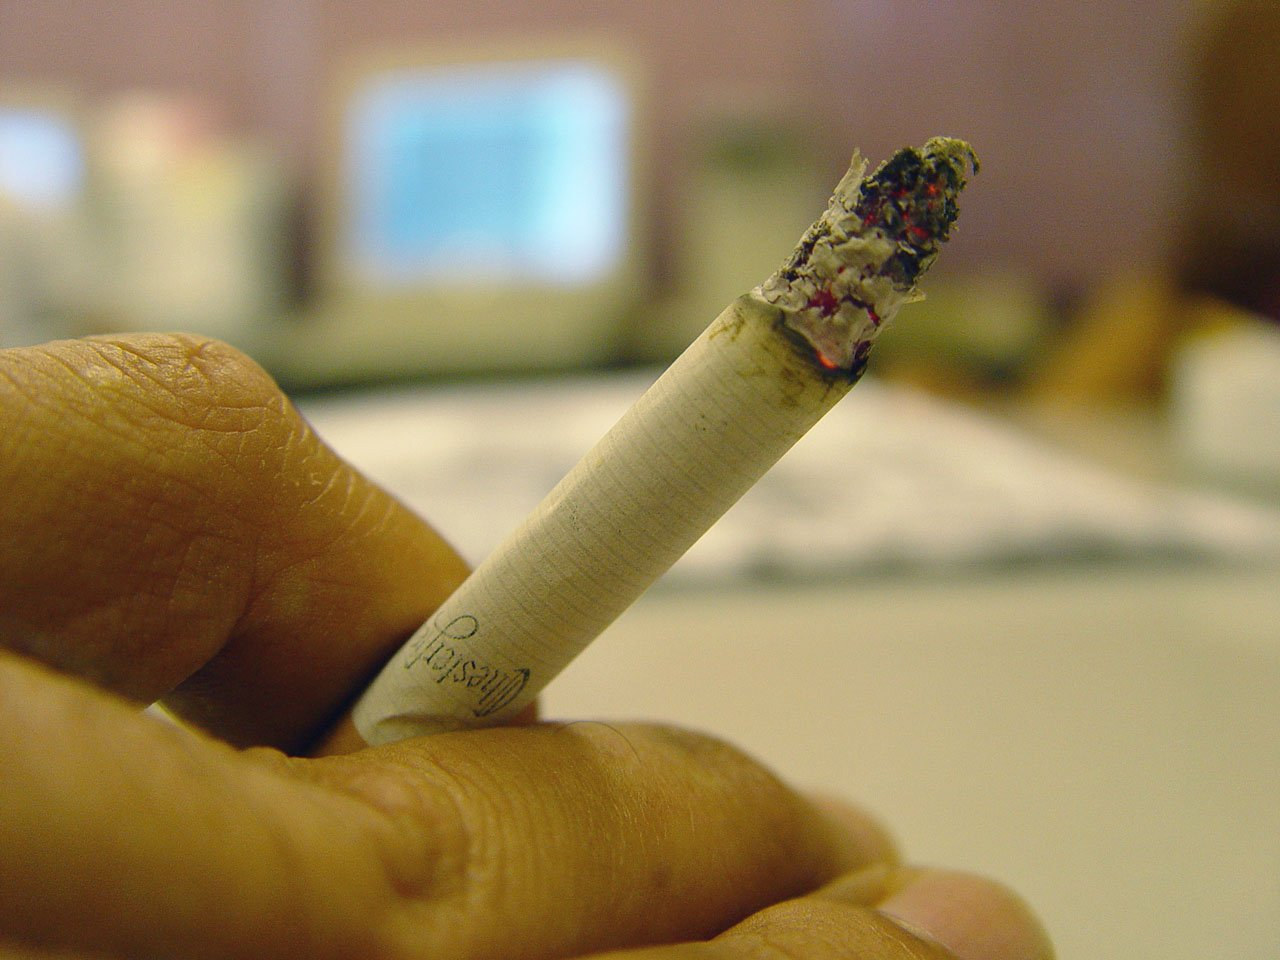cigarette: (323, 134, 983, 751)
